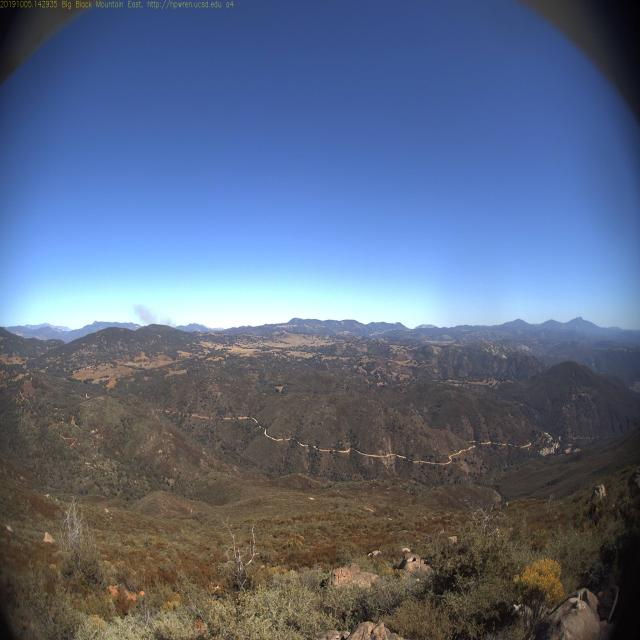smoke: (125, 295, 177, 329)
